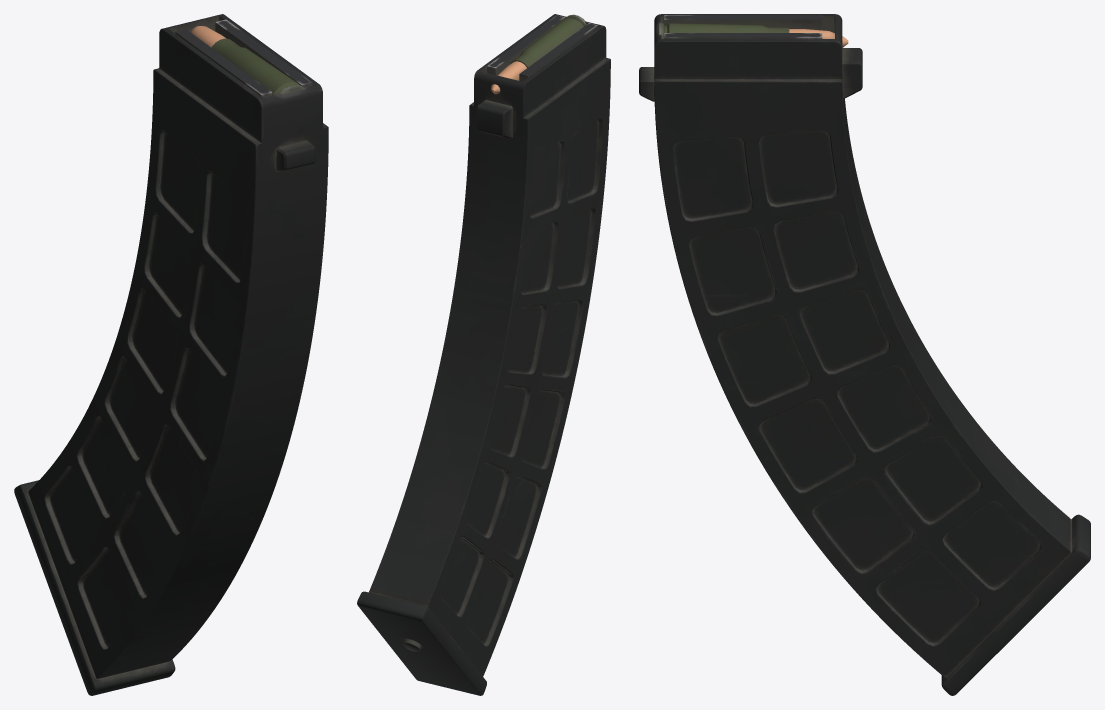
The model's file is carregador_762_30_grade.glb.
The picture shows the model from 3 angles, left to right: view 1: azimuth 30°, elevation 25°; view 2: azimuth 150°, elevation 25°; view 3: azimuth 270°, elevation 25°; orthographic projection. The views are drawn at different scales.
Parts seen in each view (by area): view 1: carregador_762_30_grade_carregador; view 2: carregador_762_30_grade_carregador; view 3: carregador_762_30_grade_carregador.
Boxes of the visible parts, x1,y1,x2,y2 form: carregador_762_30_grade_carregador: [14, 14, 328, 695]; carregador_762_30_grade_carregador: [357, 14, 610, 695]; carregador_762_30_grade_carregador: [639, 14, 1090, 695].
Bounding box in the file's own units: 0.0258 × 0.2151 × 0.1344.
Materials: 1 (1 with a texture image).
